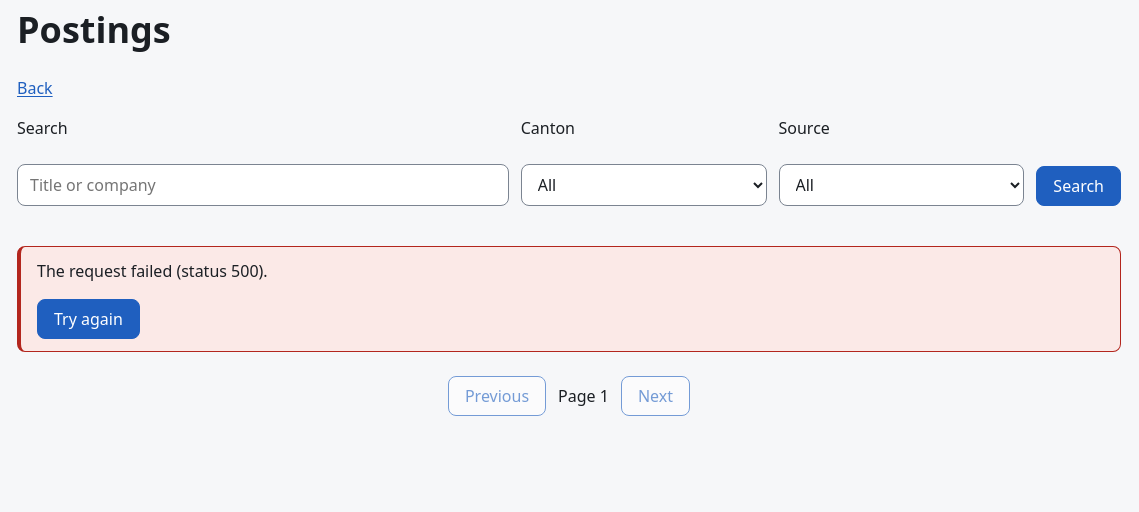
Test: the list › shows a fixed message and a working retry on a server error
Expected: the message shows "The request failed (status 500).", [37,260,268,282]
Click the button "Try again".
click(88, 319)  # box [37,299,140,339]
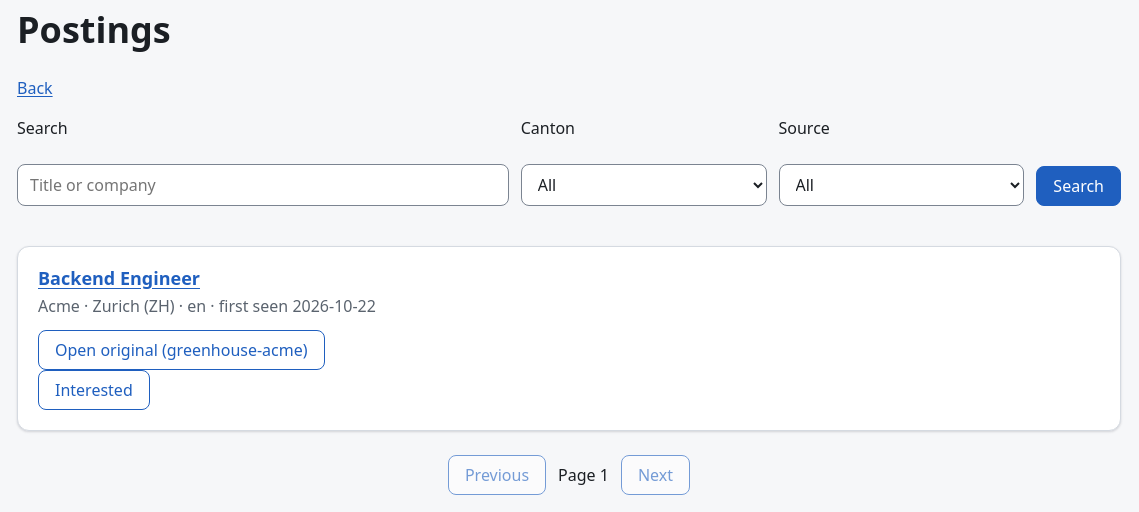
Now the link "Backend Engineer" is shown, box [38,266,200,290]
